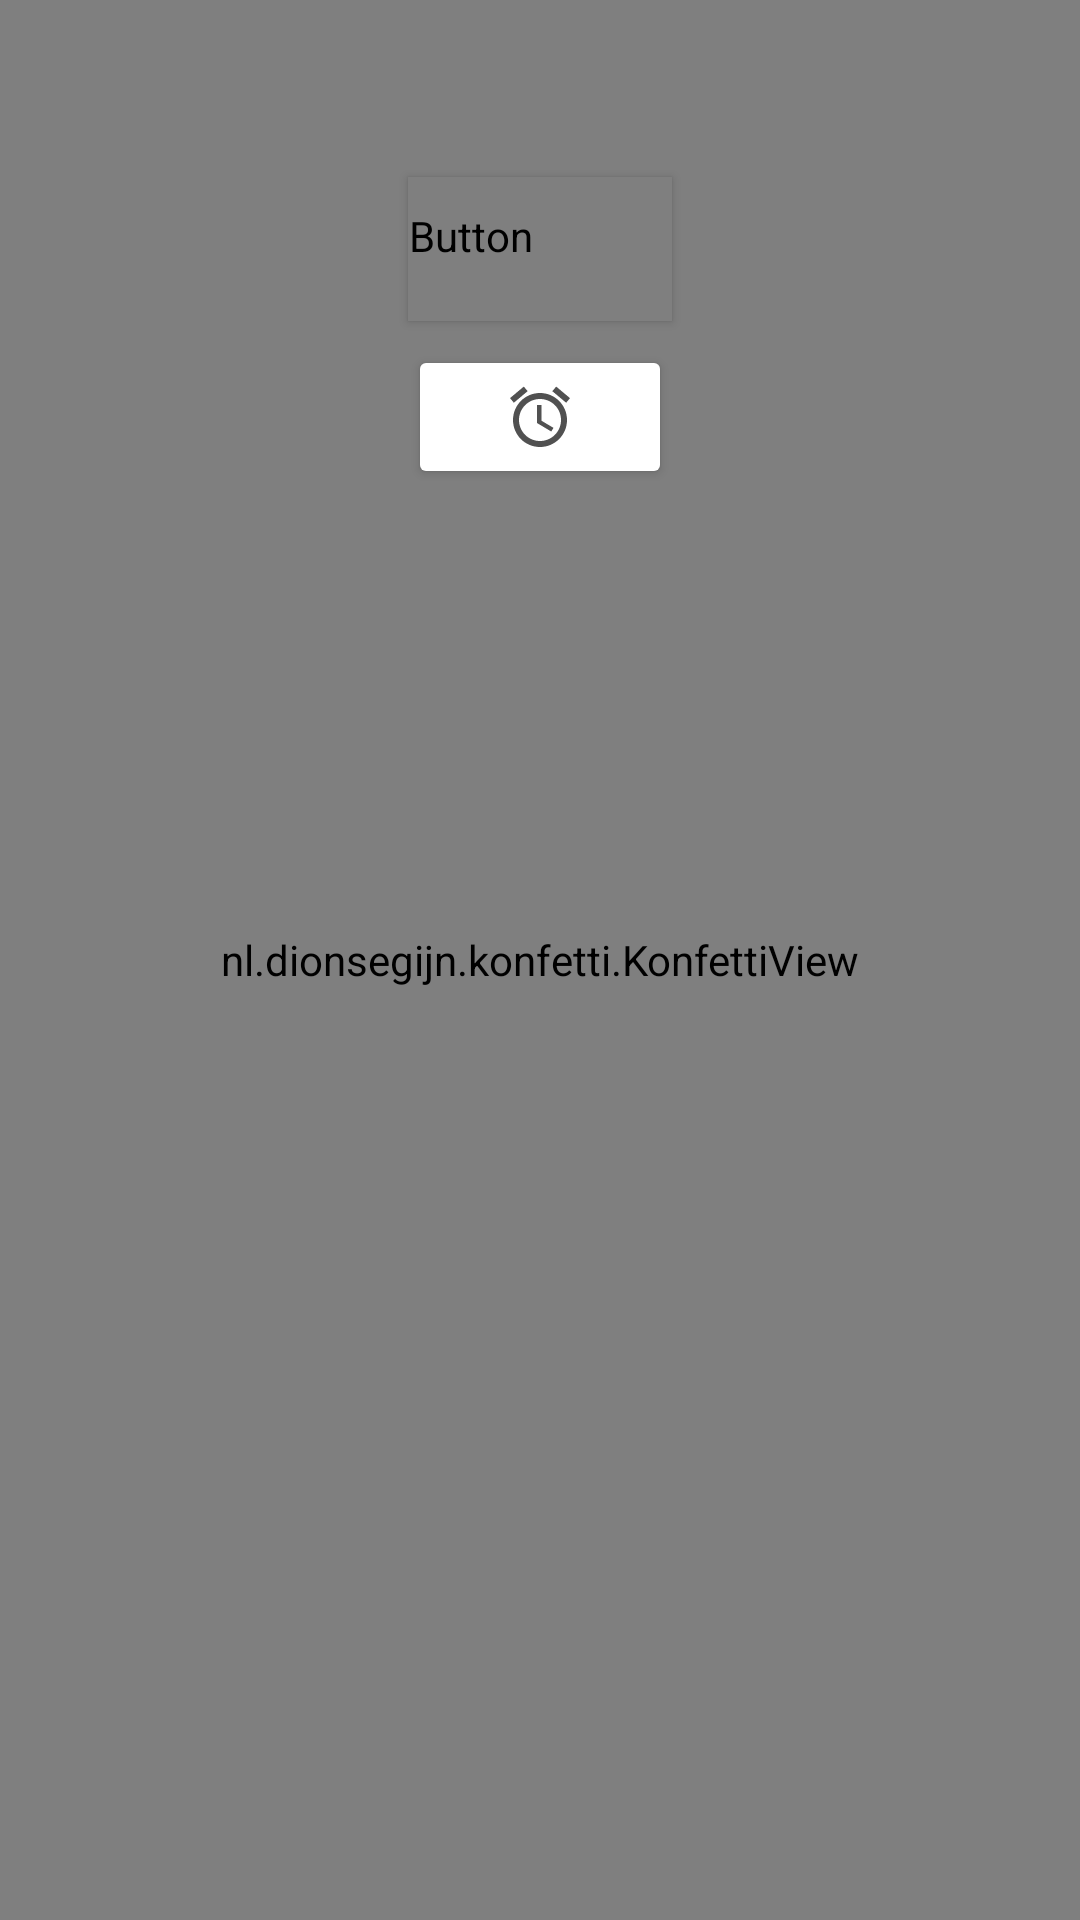

Where icons sit on this 1080 x 1920 app screen, as region(x1, y1, x2, y2):
alarm: region(420, 363, 660, 471)
